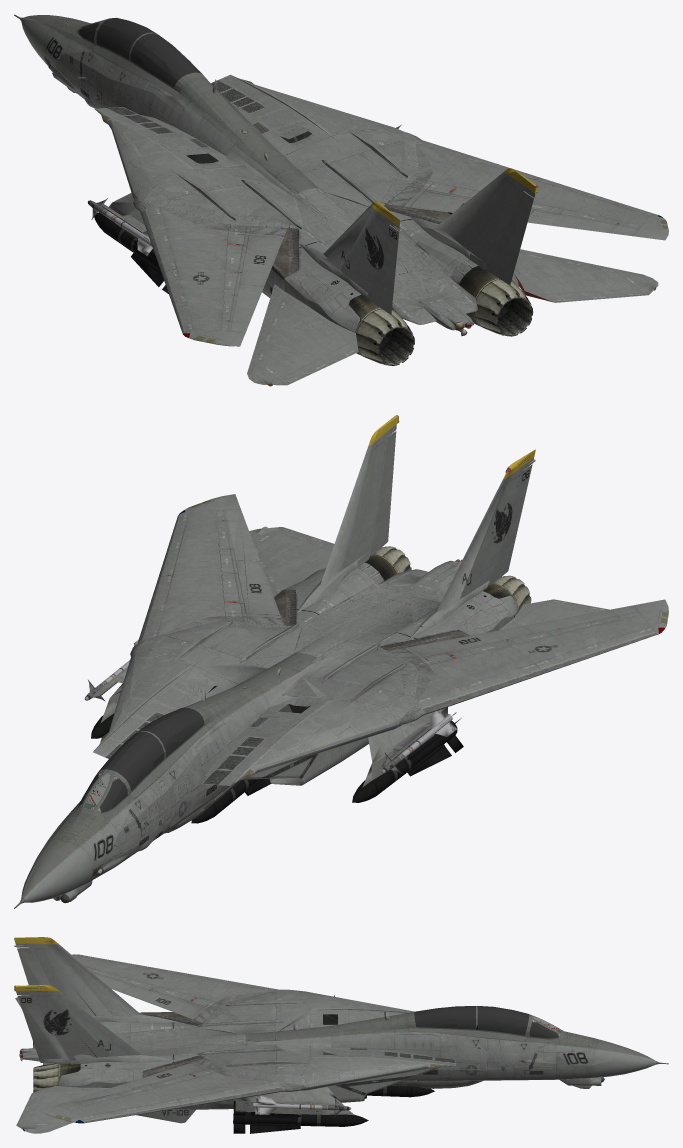
Rendered from f14GearUp.dae.
3 views of the same model, one above another, from view 1: azimuth 30°, elevation 25°; view 2: azimuth 150°, elevation 25°; view 3: azimuth 270°, elevation 25° (orthographic). The views are drawn at different scales.
Parts seen in each view (by area): view 1: defaultobject_007, Object_1, defaultobject_019, defaultobject_011, missile2, Object_7, Object_6, missile0; view 2: defaultobject_007, Object_1, defaultobject_019, defaultobject_011, missile2, missile0, missile4; view 3: defaultobject_007, Object_1, defaultobject_019, defaultobject_011, missile3, defaultobject_002, missile1, missile5.
Boxes of the visible parts, box(x1,y1,x2,y2) form: defaultobject_007: box(14, 14, 668, 386); Object_1: box(53, 17, 538, 365); defaultobject_019: box(95, 95, 391, 357); defaultobject_011: box(53, 51, 235, 250); missile2: box(94, 212, 168, 293); Object_7: box(373, 322, 414, 365); Object_6: box(491, 292, 532, 335); missile0: box(87, 198, 152, 256); defaultobject_007: box(14, 415, 609, 908); Object_1: box(38, 415, 668, 855); defaultobject_019: box(171, 594, 668, 826); defaultobject_011: box(108, 663, 450, 860); missile2: box(352, 718, 463, 802); missile0: box(381, 709, 456, 774); missile4: box(191, 778, 271, 823); defaultobject_007: box(14, 937, 668, 1133); Object_1: box(14, 954, 612, 1123); defaultobject_019: box(73, 954, 413, 1037); defaultobject_011: box(225, 991, 398, 1026); missile3: box(233, 1101, 368, 1133); defaultobject_002: box(237, 1114, 368, 1124); missile1: box(253, 1096, 351, 1116); missile5: box(364, 1085, 434, 1098).
Size of the model in its own units: 4.7 by 7.69 by 1.84.
3 materials, 3 textured.
